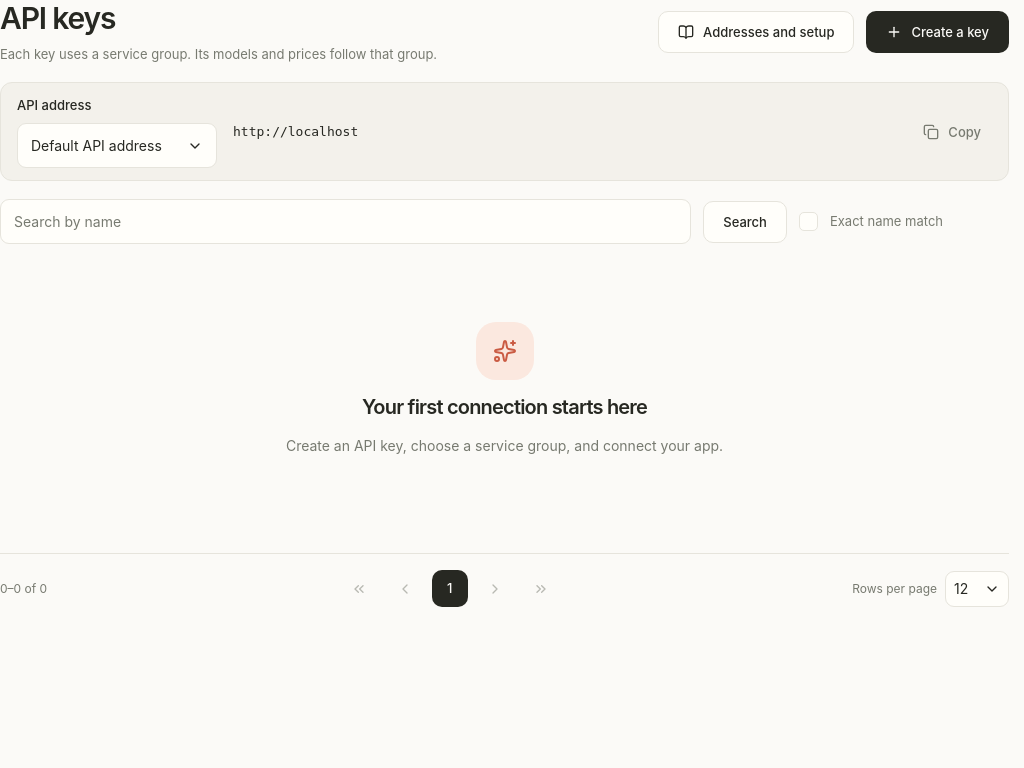
Test: excludes image models from chat examples and requires an explicit supported chat selection
Click the button "Addresses and setup": click(756, 32) [658,11,854,53]
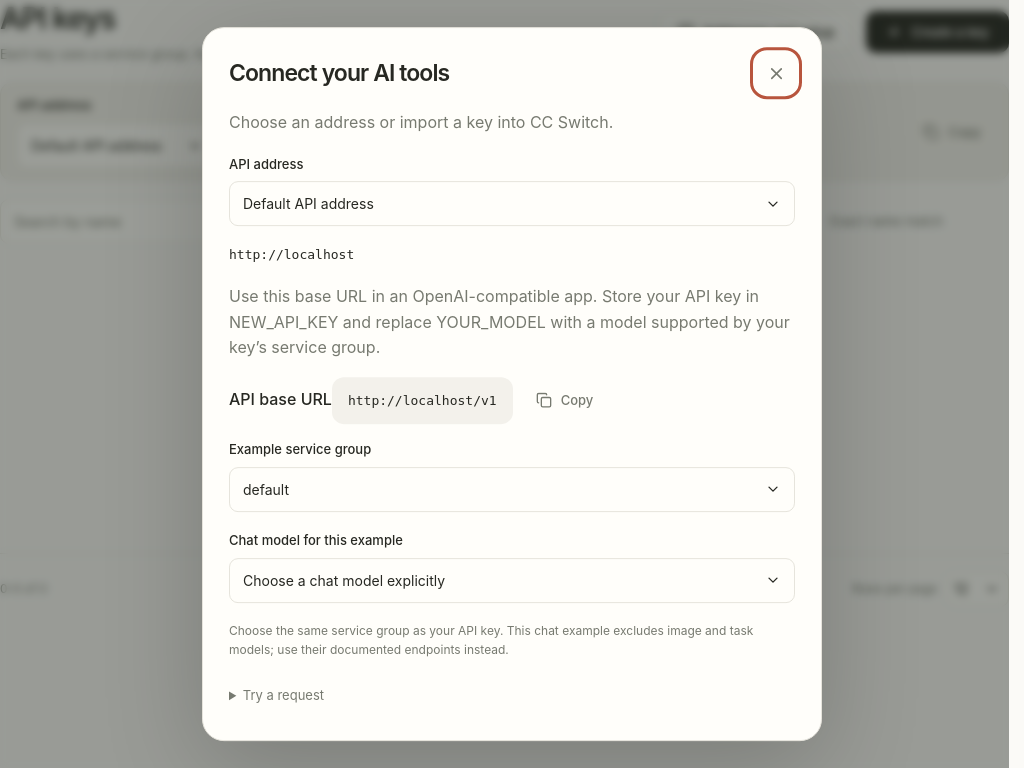
Click the heading "Try a request": click(283, 695) [243,687,324,703]
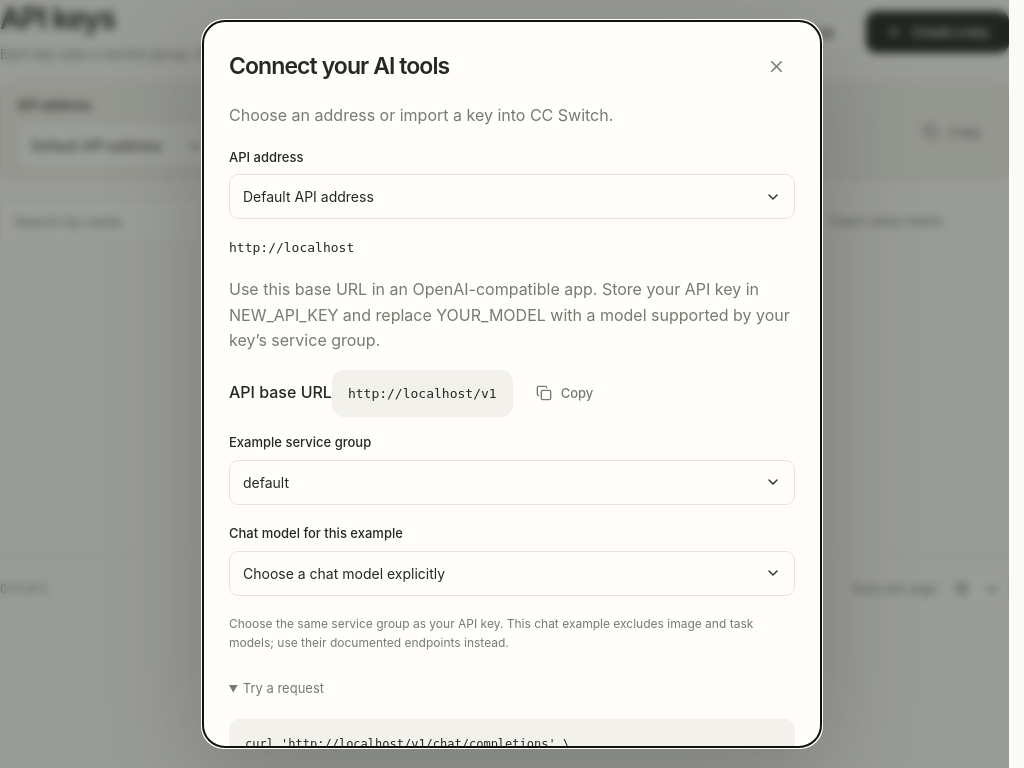
Click the dropdown named "Chat model for this example": click(344, 573) [229,551,795,596]
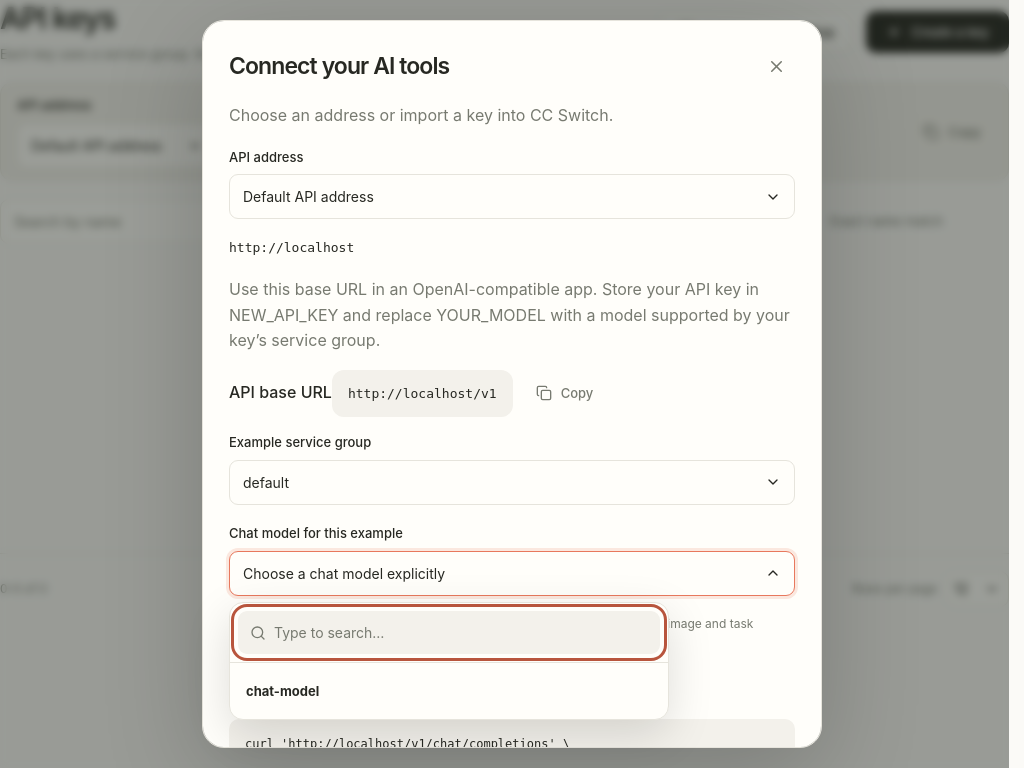
Expected: the option "chat-model" is shown
Click the option "chat-model": click(283, 691) [246,683,319,699]
(page scrolled)
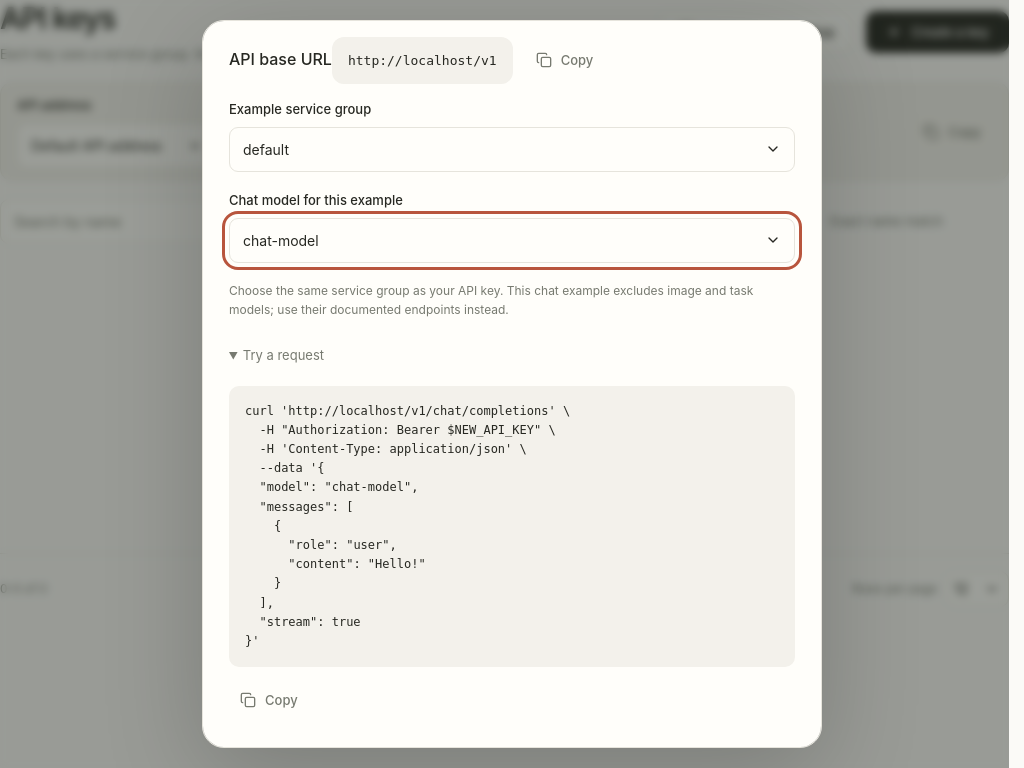
Expected: the text "\"model\": \"chat-model\"" is shown, [245,404,570,648]
